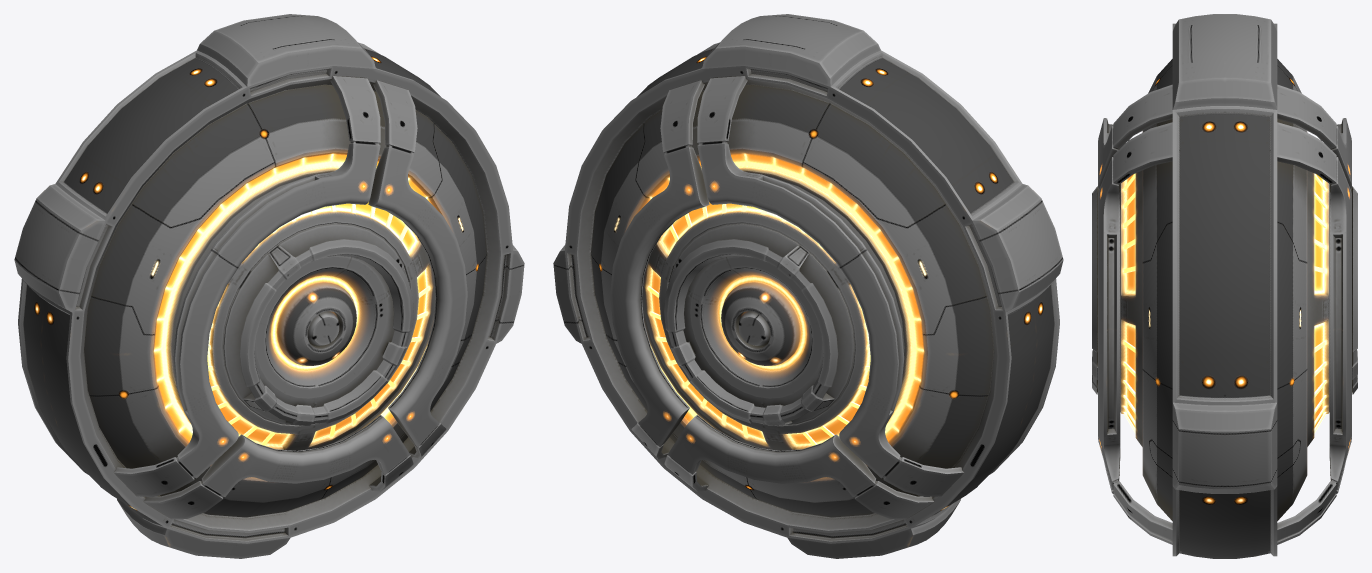
The model's file is ship_generator_core.glb.
3 views of the same model, side by side, from view 1: azimuth 30°, elevation 25°; view 2: azimuth 150°, elevation 25°; view 3: azimuth 270°, elevation 25° (orthographic). The views are drawn at different scales.
Parts seen in each view (by area): view 1: energy_core_1_low; view 2: energy_core_1_low; view 3: energy_core_1_low.
Part boxes in pixels (x1,y1,x2,y2): energy_core_1_low: (14, 14, 524, 558); energy_core_1_low: (553, 14, 1063, 558); energy_core_1_low: (1092, 14, 1357, 558).
Size of the model in its own units: 1.83 by 1.87 by 0.8547.
Materials: 1 (1 with a texture image).
